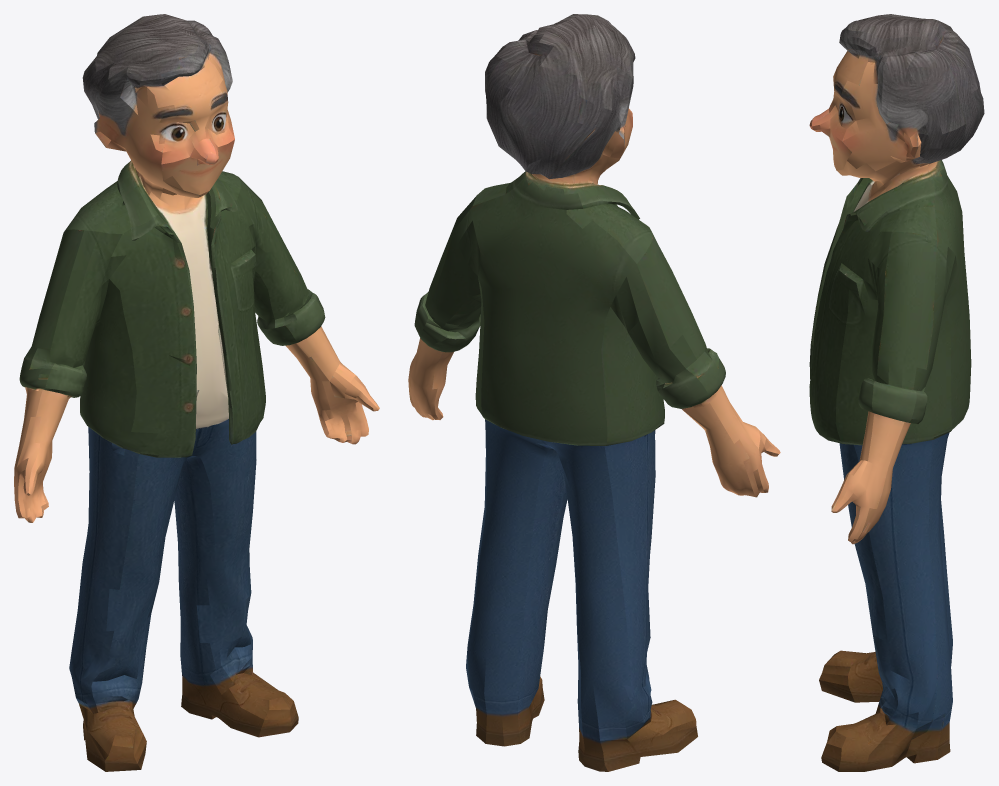
The model's file is askidan-ekmek-alan-adam.glb.
The picture shows the model from 3 angles, left to right: view 1: azimuth 30°, elevation 25°; view 2: azimuth 150°, elevation 25°; view 3: azimuth 270°, elevation 25°; orthographic projection.
Parts seen in each view (by area): view 1: Mesh0; view 2: Mesh0; view 3: Mesh0.
Part boxes in pixels (x1=…): Mesh0: x1=14, y1=14, x2=379, y2=771; Mesh0: x1=408, y1=14, x2=780, y2=771; Mesh0: x1=809, y1=14, x2=984, y2=771.
Bounding box in the file's own units: 1 × 1.9 × 0.4272.
Materials: 1 (1 with a texture image).
